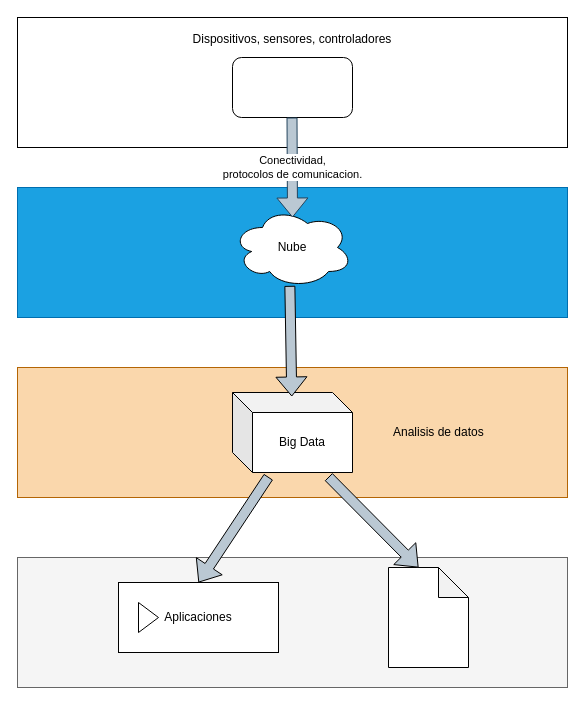
Image size: 585x705. Some labels were removed from this diagram. The shapes that lost their labels are listed below. From the top down, each one's box as (x1, y1, x2, y2) in pixels, then its label:
(232, 56, 352, 118): Cosas
(388, 566, 468, 668): Toma de decisiones
